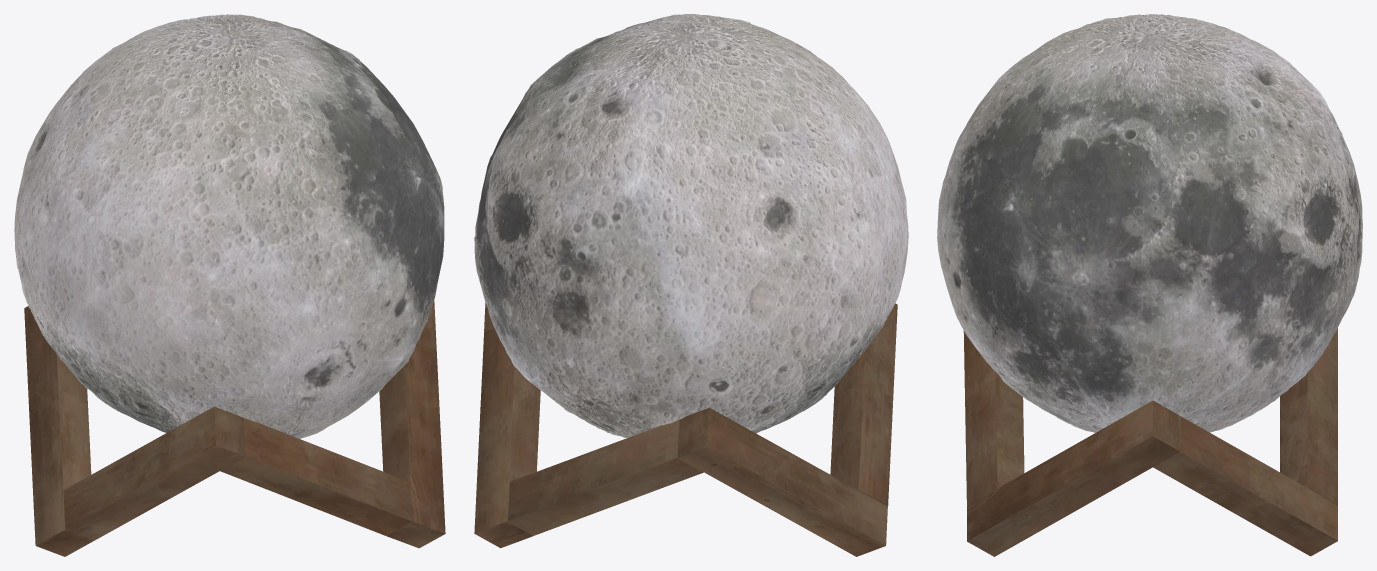
File: lamp.glb
The picture shows the model from 3 angles, left to right: view 1: azimuth 30°, elevation 25°; view 2: azimuth 150°, elevation 25°; view 3: azimuth 270°, elevation 25°; orthographic projection. The views are drawn at different scales.
Visible parts, largest first — view 1: Moon_Moon_0, Wood_Cage_Wood_0; view 2: Moon_Moon_0, Wood_Cage_Wood_0; view 3: Moon_Moon_0, Wood_Cage_Wood_0.
Boxes of the visible parts, <box> form: Moon_Moon_0: <box>14,14,444,438</box>; Wood_Cage_Wood_0: <box>24,300,445,556</box>; Moon_Moon_0: <box>474,14,908,437</box>; Wood_Cage_Wood_0: <box>474,302,897,556</box>; Moon_Moon_0: <box>937,14,1362,432</box>; Wood_Cage_Wood_0: <box>963,328,1337,556</box>.
Bounding box in the file's own units: 0.3331 × 0.3836 × 0.3137.
2 materials, 2 textured.
